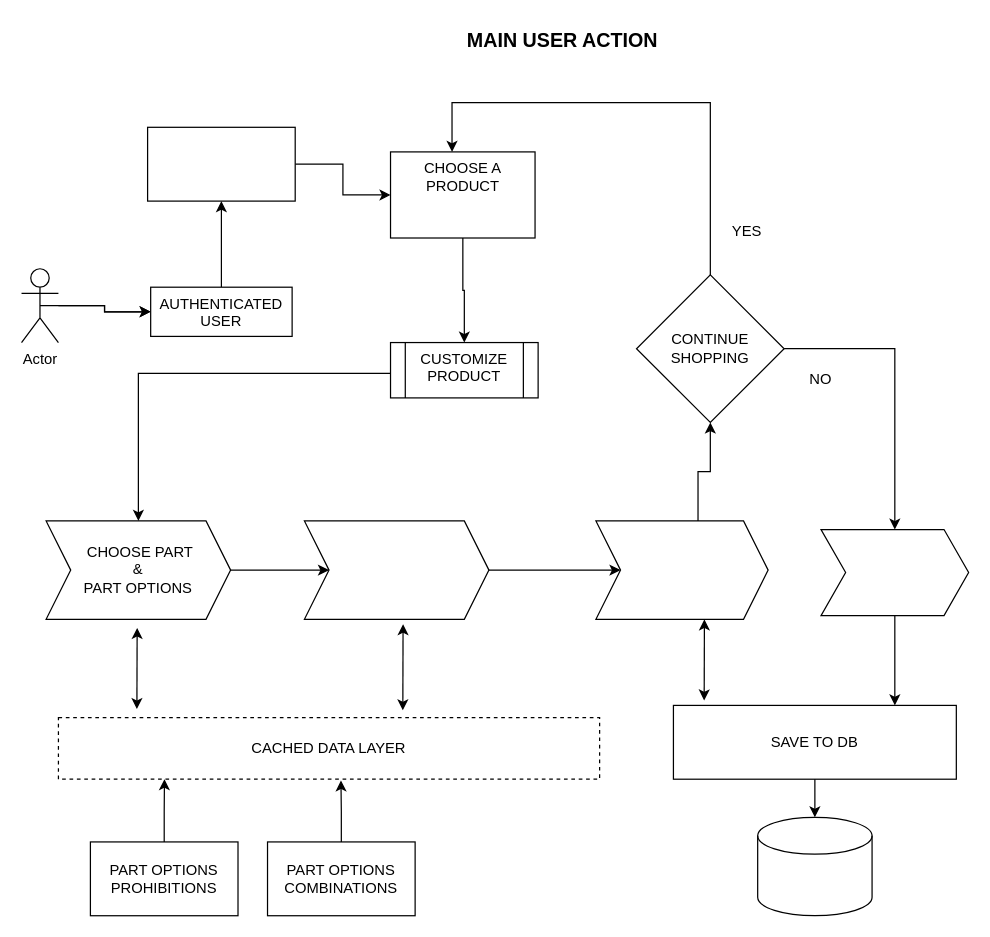
Image size: 990x937. Some labels were removed from this diagram. Each missing label, with the centre of its shape:
ADD TO CART: point (681, 569)
CHECKOUT: point (894, 572)
CUSTOMIZATION SUMMARY: point (396, 569)
DB: point (814, 866)
VIEW ALL PRODUCTS: point (220, 163)
